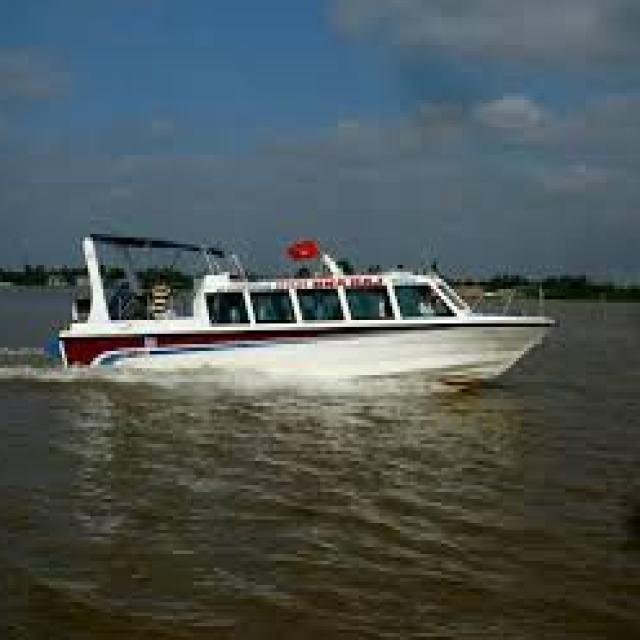houseboat: (43, 235, 563, 382)
